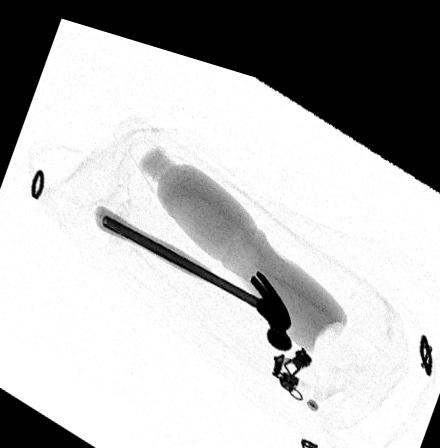Hammer: (93, 201, 293, 336)
